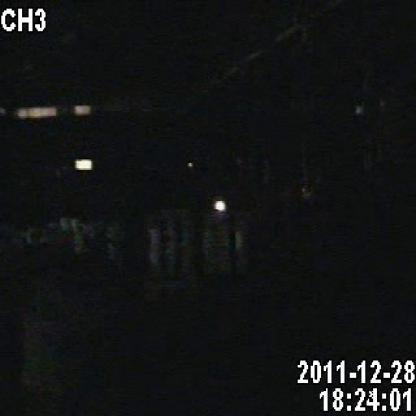fire: (209, 184, 237, 220)
